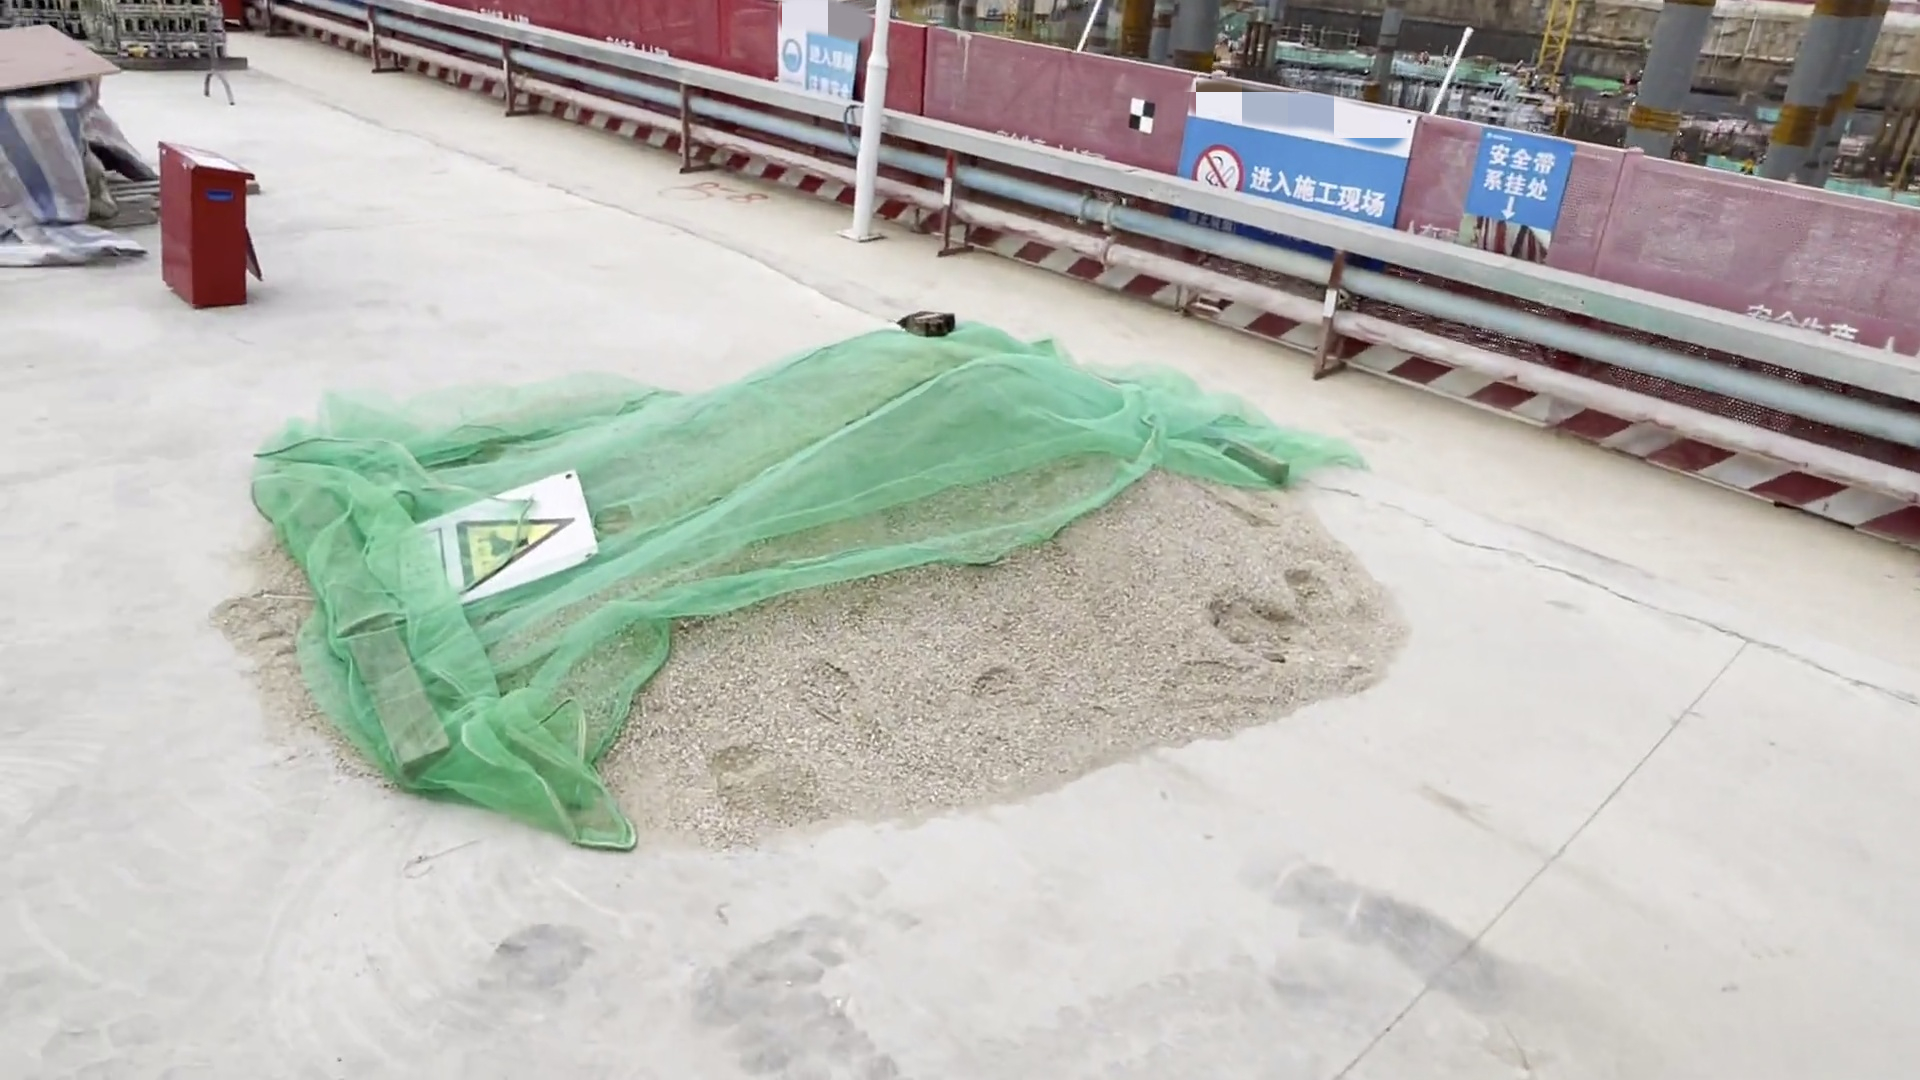fence: (266, 1, 1920, 556)
slogan: (1175, 73, 1420, 227), (777, 26, 862, 99)
